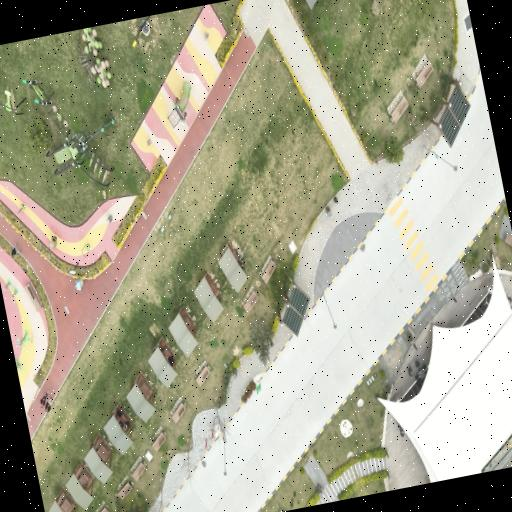person: (39, 391, 47, 407), (10, 244, 19, 258), (44, 396, 51, 411)
